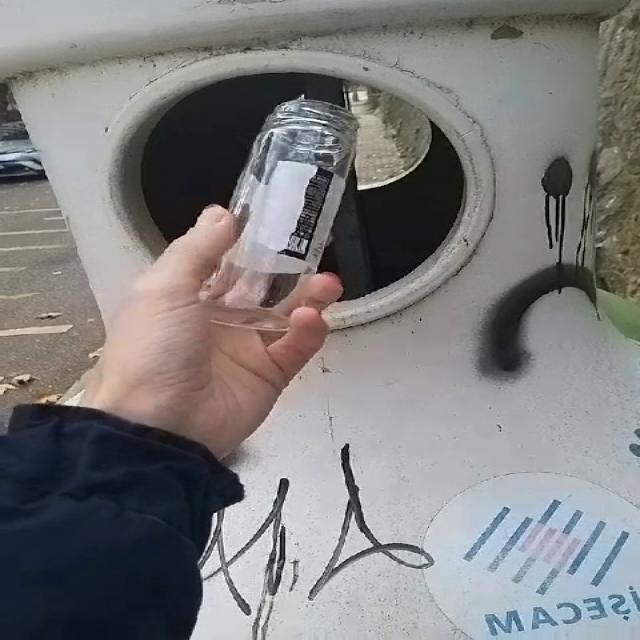glass: (200, 99, 356, 331)
